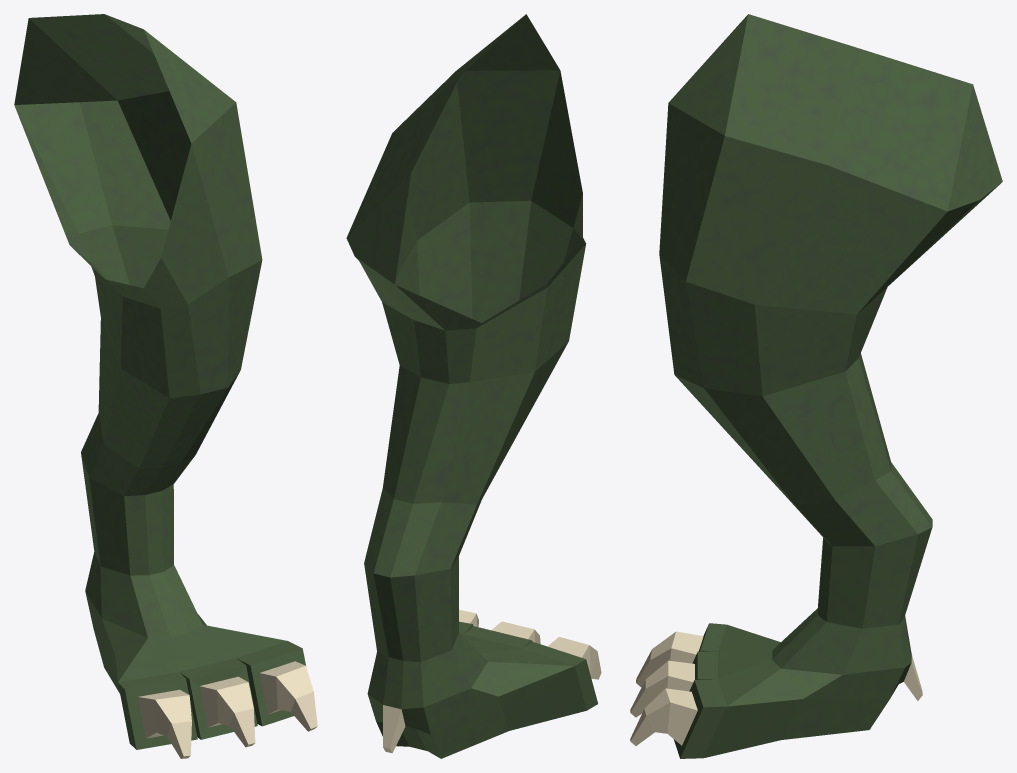
File: T_RexPiernaI.obj
3 views of the same model, side by side, from view 1: azimuth 30°, elevation 25°; view 2: azimuth 150°, elevation 25°; view 3: azimuth 270°, elevation 25° (orthographic). The views are drawn at different scales.
Visible parts, largest first — view 1: T_Rex:Mesh; view 2: T_Rex:Mesh; view 3: T_Rex:Mesh.
Part boxes in pixels (x1,y1,x2,y2): T_Rex:Mesh: (14,14,317,758); T_Rex:Mesh: (346,14,601,758); T_Rex:Mesh: (630,14,1002,758).
Bounding box in the file's own units: 1.44 × 5.42 × 2.7.
1 material, 1 textured.
